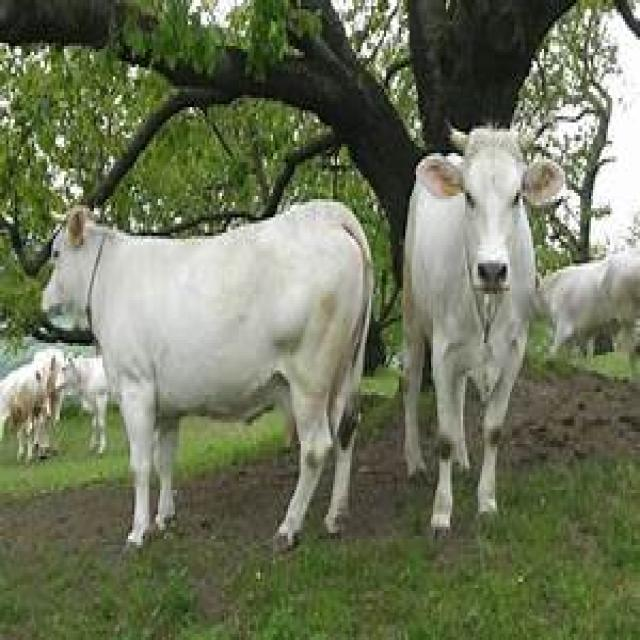animal: (8, 196, 376, 554), (399, 116, 565, 539), (535, 248, 638, 364), (0, 349, 62, 462), (53, 352, 109, 456)
